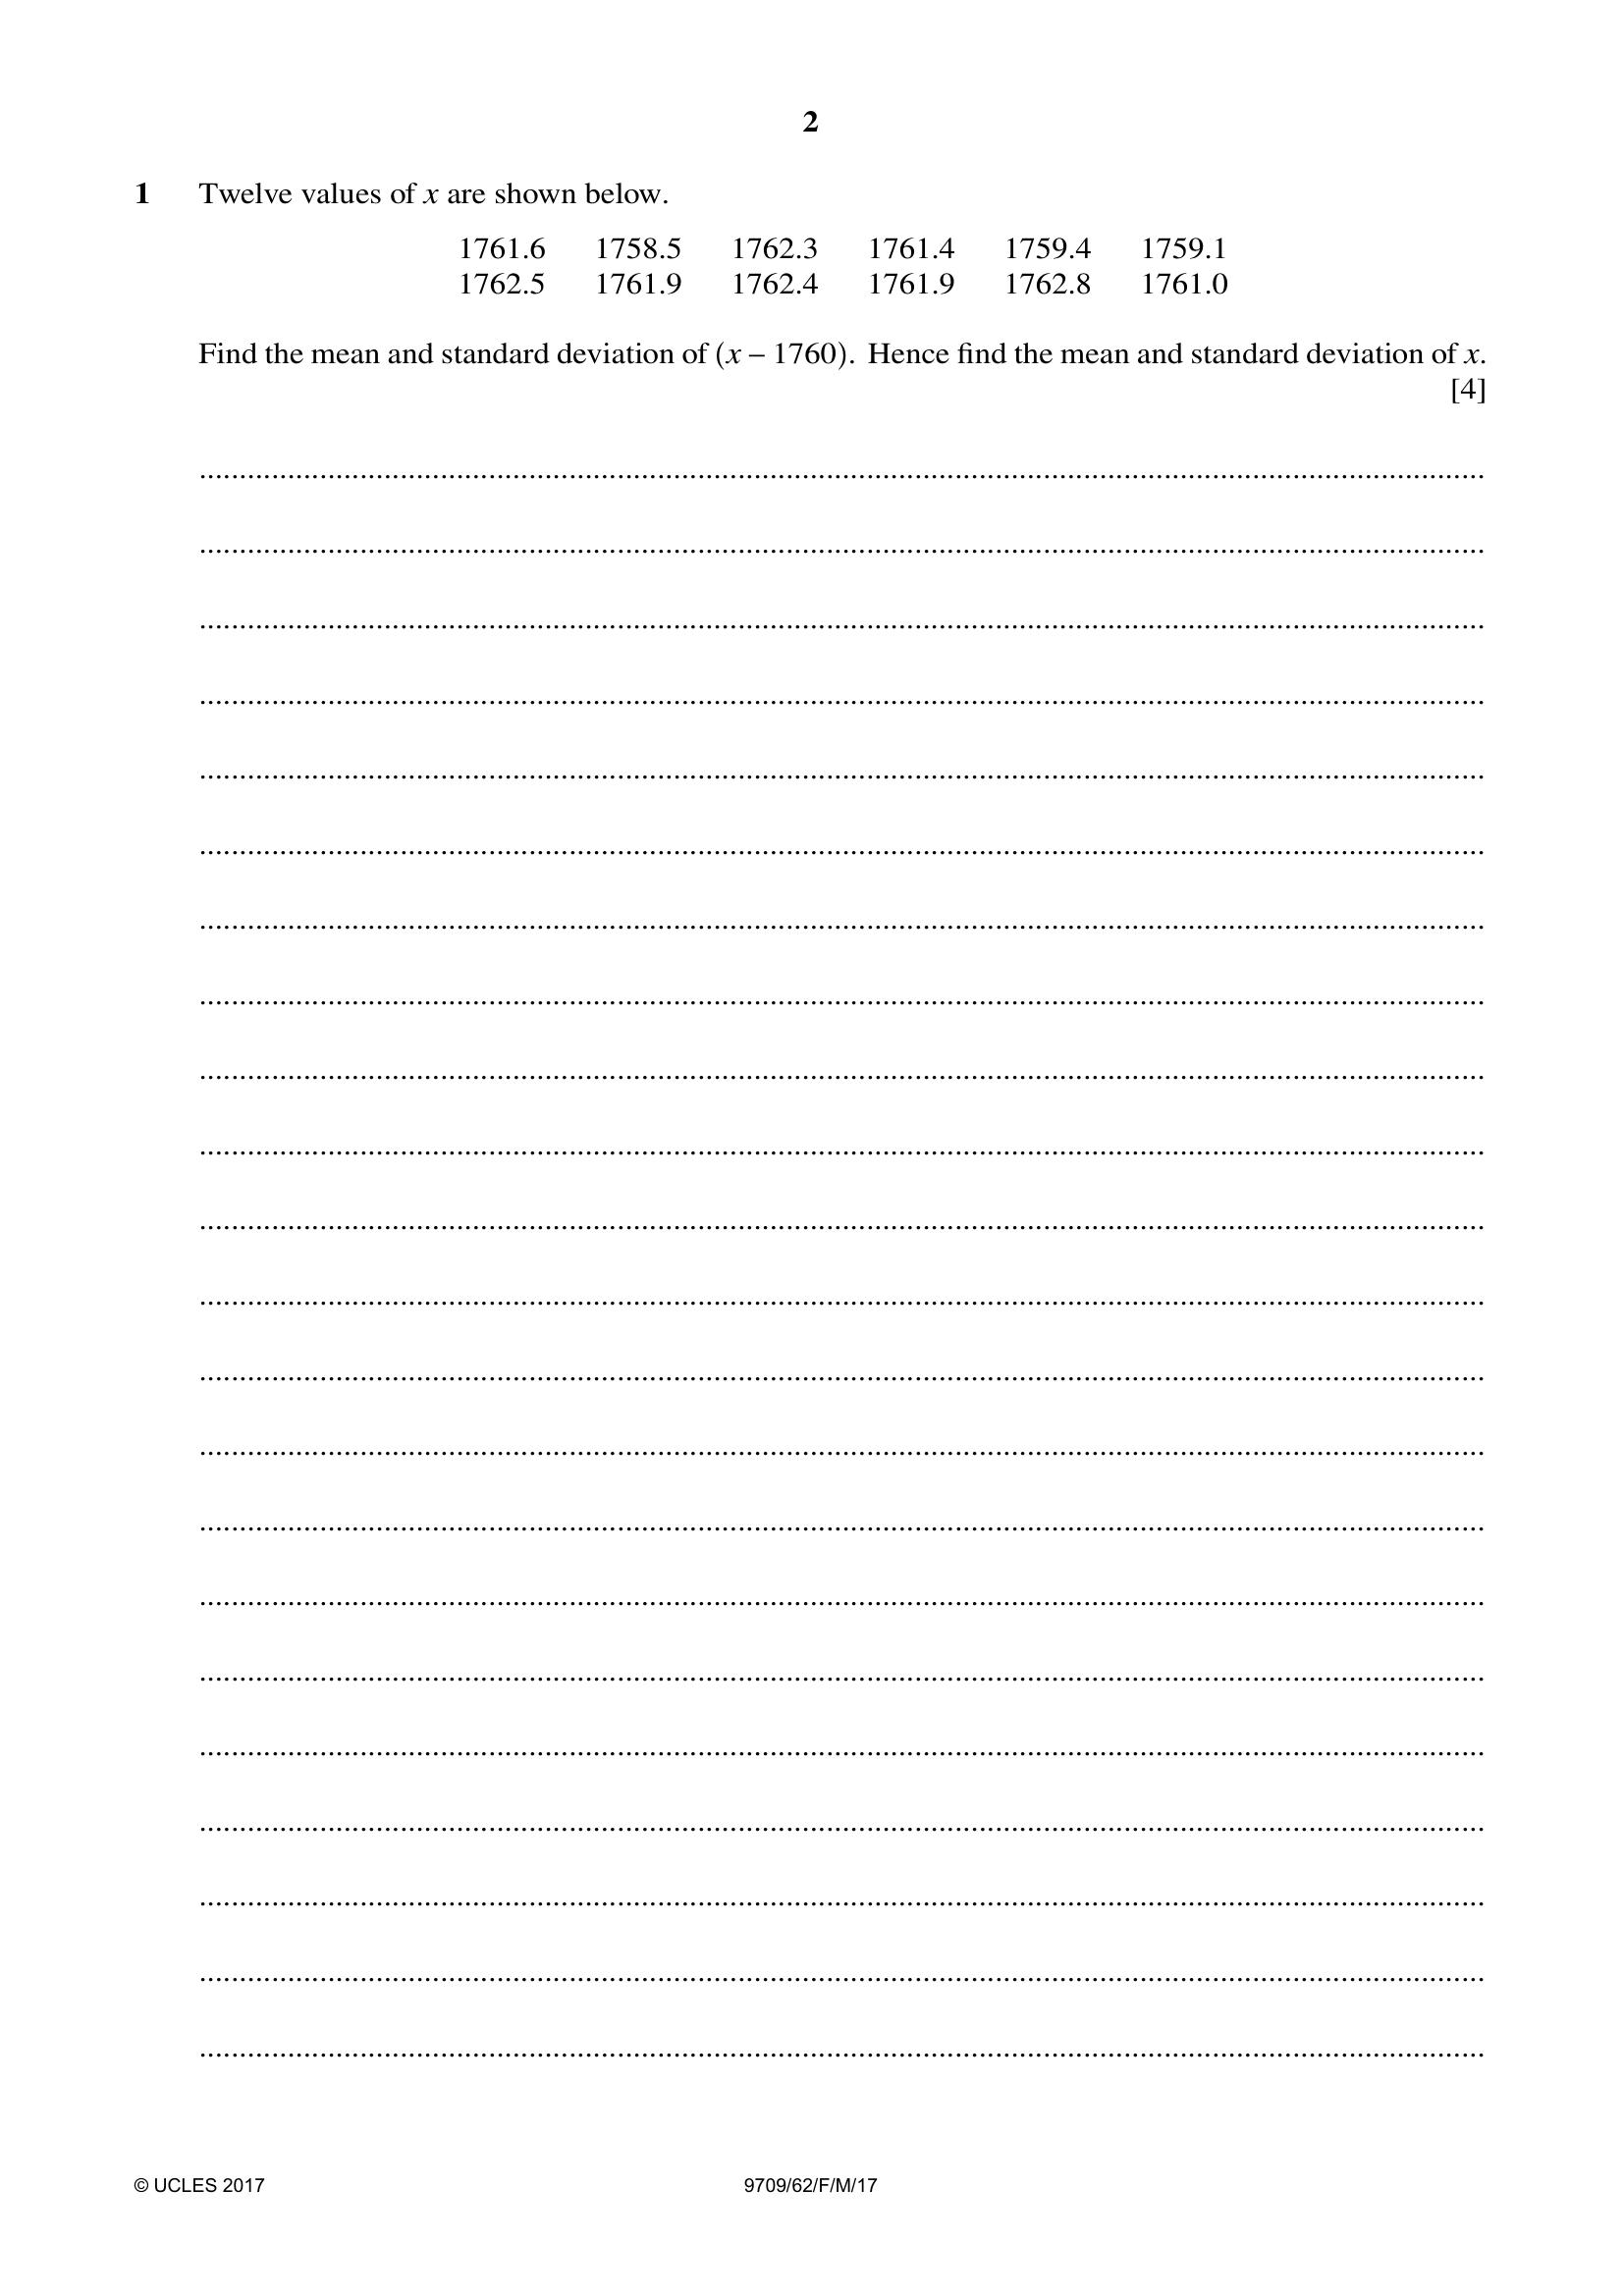question: (2, 147, 1623, 2085)
